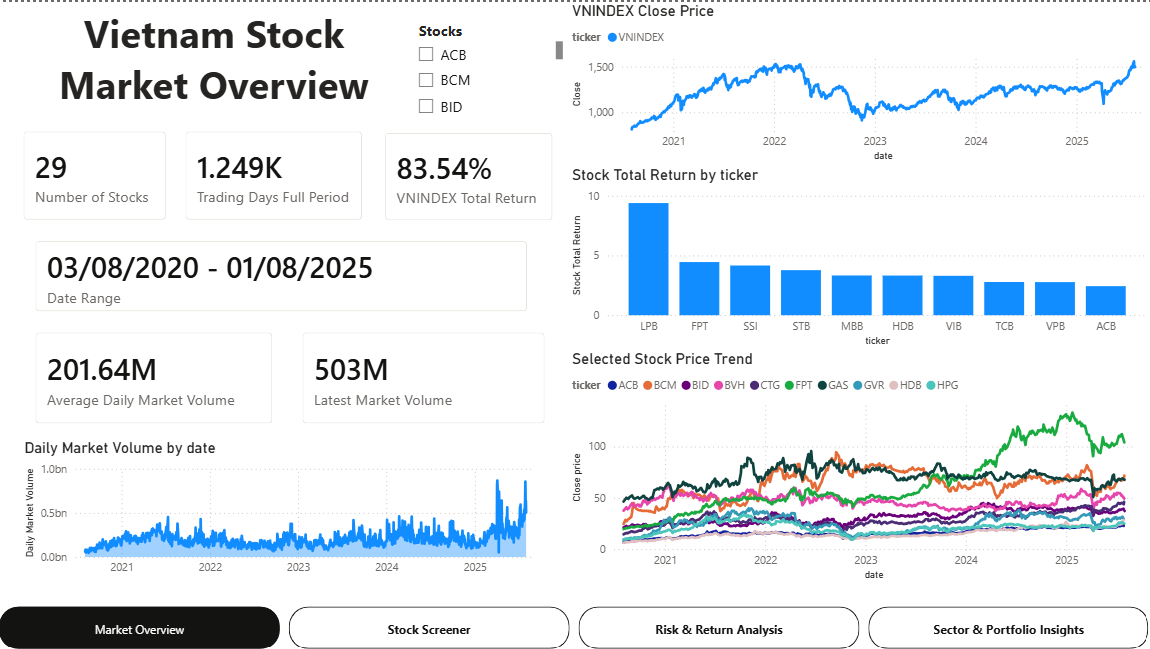

What the dashboard file says about the page in this screenshot:
{"tool":"powerbi","page":{"name":"Market Overview","canvas":[1280,720],"ordinal":0},"visuals":[{"type":"cardVisual","fields":{"Data":["clean_full.Date Range"]},"box":[22.5,247.5,580,112.5],"z":0},{"type":"cardVisual","fields":{"Data":["clean_full.Trading Days Full Period"]},"box":[190,126.2,230,132.5],"z":1},{"type":"cardVisual","fields":{"Data":["clean_full.Number of Stocks"]},"box":[10,126.2,192.5,132.5],"z":2},{"type":"lineChart","title":"VNINDEX Close Price","fields":{"Category":["clean_full.date"],"Series":["clean_full.ticker"],"Y":["Sum(clean_full.close)"]},"box":[631.7,0,648.3,181.7],"z":3},{"type":"clusteredColumnChart","fields":{"Category":["clean_full.ticker"],"Y":["clean_full.Stock Total Return"]},"box":[631.7,181.7,648.3,205],"z":4},{"type":"lineChart","title":"Selected Stock Price Trend","fields":{"Category":["clean_full.date"],"Y":["Sum(clean_full.close)"],"Series":["clean_full.ticker"]},"box":[631.7,386.7,636.7,260],"z":5},{"type":"slicer","fields":{"Values":["clean_full.ticker"]},"box":[453.3,15,178.3,126.7],"z":6},{"type":"cardVisual","fields":{"Data":["clean_full.Latest Market Volume"]},"box":[320,350,303.8,135],"z":8},{"type":"cardVisual","fields":{"Data":["clean_full.VNINDEX Total Return"]},"box":[411.2,127.5,220,131.2],"z":9},{"type":"cardVisual","fields":{"Data":["clean_full.Average Daily Market Volume"]},"box":[22.5,350,297.5,135],"z":10},{"type":"pageNavigator","box":[0,671.7,1280,48.3],"z":11},{"type":"textbox","box":[22.5,0,431.2,141.2],"z":12},{"type":"stackedAreaChart","fields":{"Y":["clean_full.Daily Market Volume"],"Category":["clean_full.date"]},"box":[22.5,485,580,161.2],"z":13}]}

Visuals, with their boxes in screenshot pixels (x1, y1, x2, y2), scaled from the page's 1280x720 canvas onto the 1150x649 screenshot:
cardVisual - clean_full.Date Range: {"left": 20, "top": 223, "right": 541, "bottom": 324}
cardVisual - clean_full.Trading Days Full Period: {"left": 171, "top": 114, "right": 377, "bottom": 233}
cardVisual - clean_full.Number of Stocks: {"left": 9, "top": 114, "right": 182, "bottom": 233}
"VNINDEX Close Price" lineChart: {"left": 568, "top": 0, "right": 1149, "bottom": 164}
clusteredColumnChart - clean_full.ticker x clean_full.Stock Total Return: {"left": 568, "top": 164, "right": 1149, "bottom": 349}
"Selected Stock Price Trend" lineChart: {"left": 568, "top": 349, "right": 1140, "bottom": 583}
slicer - clean_full.ticker: {"left": 407, "top": 14, "right": 567, "bottom": 128}
cardVisual - clean_full.Latest Market Volume: {"left": 288, "top": 315, "right": 560, "bottom": 437}
cardVisual - clean_full.VNINDEX Total Return: {"left": 369, "top": 115, "right": 567, "bottom": 233}
cardVisual - clean_full.Average Daily Market Volume: {"left": 20, "top": 315, "right": 288, "bottom": 437}
pageNavigator: {"left": 0, "top": 605, "right": 1149, "bottom": 648}
textbox: {"left": 20, "top": 0, "right": 408, "bottom": 127}
stackedAreaChart - clean_full.Daily Market Volume x clean_full.date: {"left": 20, "top": 437, "right": 541, "bottom": 582}
